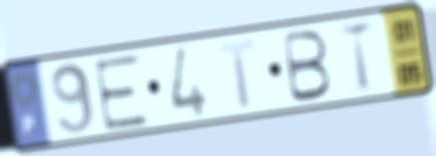4: (168, 42, 212, 121)
9: (48, 61, 97, 137)
B: (280, 27, 334, 106)
E: (90, 51, 151, 134)
T: (336, 17, 378, 97), (216, 36, 259, 112)
